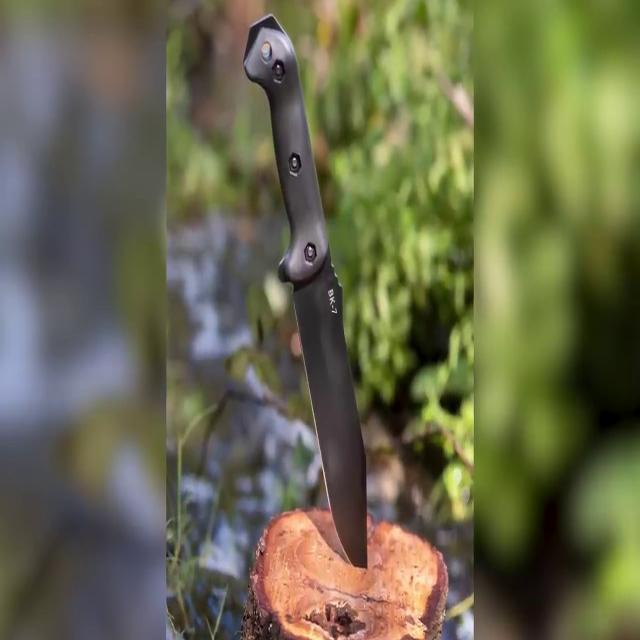Knife: (235, 11, 370, 581)
